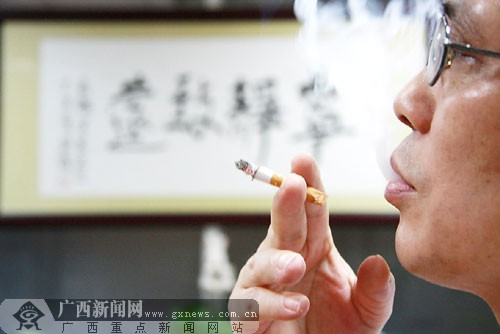yanwu: (296, 3, 441, 112)
